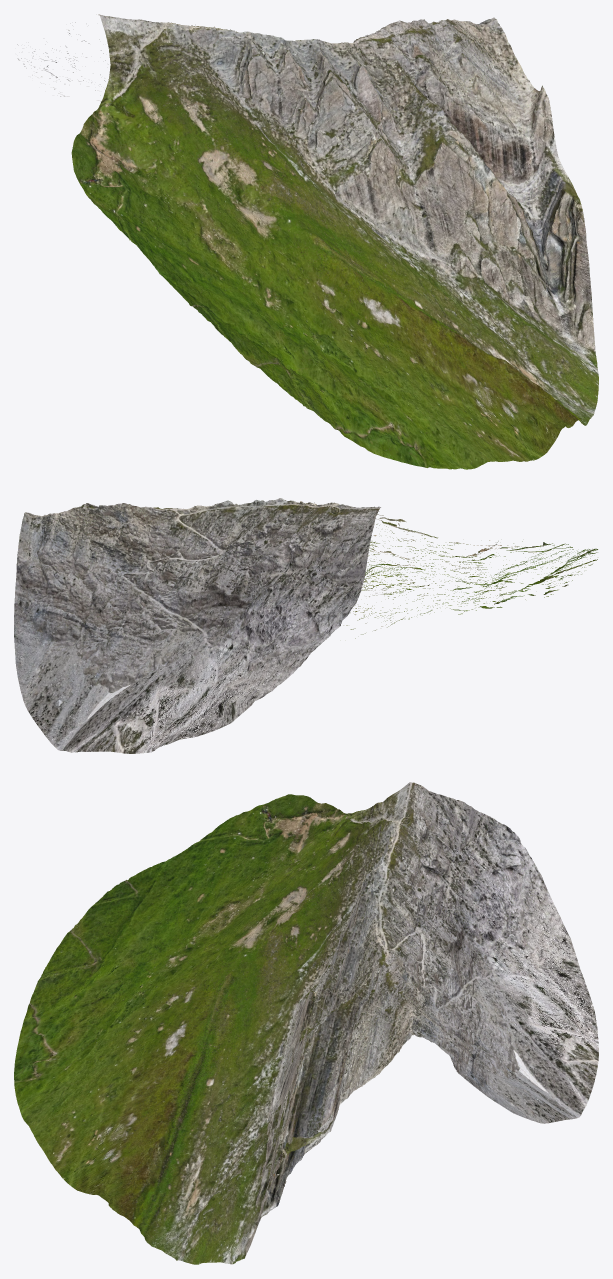
Rendered from weisse_wand_mountain_peek.glb.
3 renders of one model, top to bottom at view 1: azimuth 30°, elevation 25°; view 2: azimuth 150°, elevation 25°; view 3: azimuth 270°, elevation 25°, orthographic. The views are drawn at different scales.
Visible parts, largest first — view 1: Skybox_whiteWalls_Model_3_u1_v1_0; view 2: Skybox_whiteWalls_Model_3_u1_v1_0; view 3: Skybox_whiteWalls_Model_3_u1_v1_0.
Part boxes in pixels (x1,y1,x2,y2): Skybox_whiteWalls_Model_3_u1_v1_0: (17,14,598,469); Skybox_whiteWalls_Model_3_u1_v1_0: (14,498,597,753); Skybox_whiteWalls_Model_3_u1_v1_0: (14,782,598,1264).
Size of what is drawn, in the model's own units: 1 by 0.7126 by 1.15.
1 material, 1 textured.
